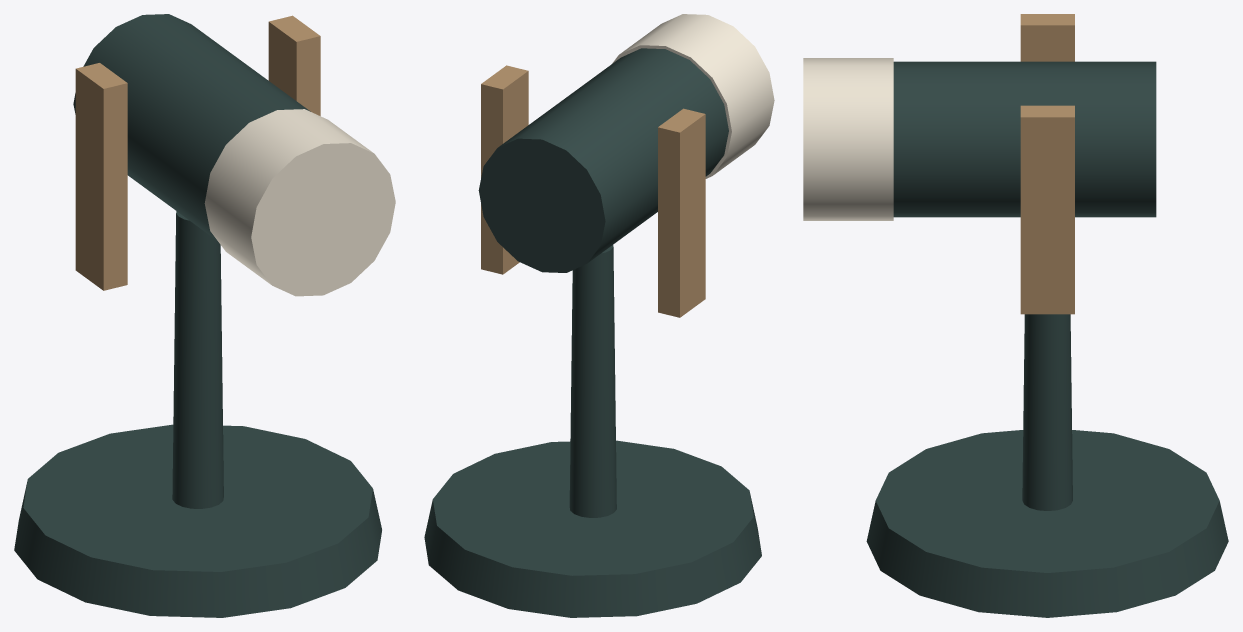
The picture shows the model from 3 angles, left to right: view 1: azimuth 30°, elevation 25°; view 2: azimuth 150°, elevation 25°; view 3: azimuth 270°, elevation 25°; orthographic projection. The views are drawn at different scales.
Visible parts, largest first — view 1: base, grille, body, stem, yoke-left, yoke-right; view 2: base, body, stem, yoke-left, grille, yoke-right; view 3: base, body, grille, yoke-right, stem, yoke-left.
Boxes of the visible parts, box(x1,y1,x2,y2) form: base: box(14, 424, 381, 617); grille: box(204, 109, 395, 296); body: box(73, 14, 310, 240); stem: box(172, 211, 223, 508); yoke-left: box(75, 63, 127, 290); yoke-right: box(268, 15, 320, 115); base: box(424, 440, 761, 617); body: box(478, 48, 728, 272); stem: box(569, 245, 616, 517); yoke-left: box(658, 108, 705, 317); grille: box(612, 14, 774, 178); yoke-right: box(481, 65, 528, 274); base: box(866, 430, 1228, 617); body: box(893, 61, 1156, 217); grille: box(803, 58, 893, 220); yoke-right: box(1020, 105, 1074, 314); stem: box(1022, 314, 1072, 510); yoke-left: box(1020, 14, 1074, 61).
Bounding box in the file's own units: 0.2 × 0.29 × 0.235.
